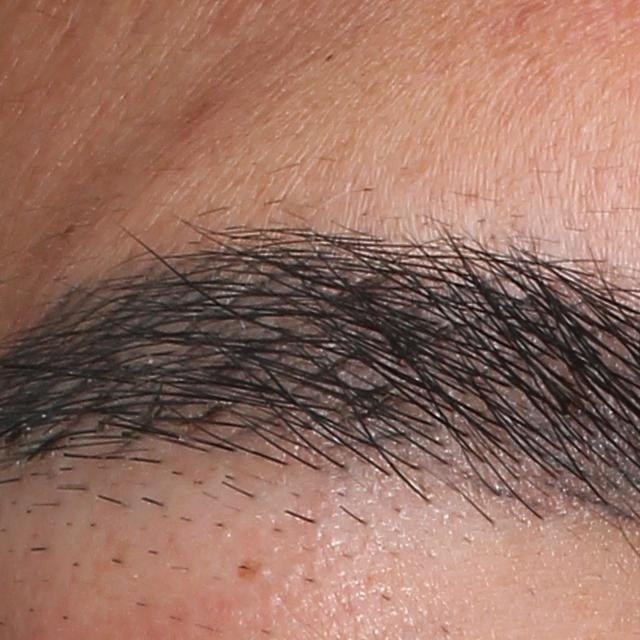melasma: (234, 555, 266, 584)
